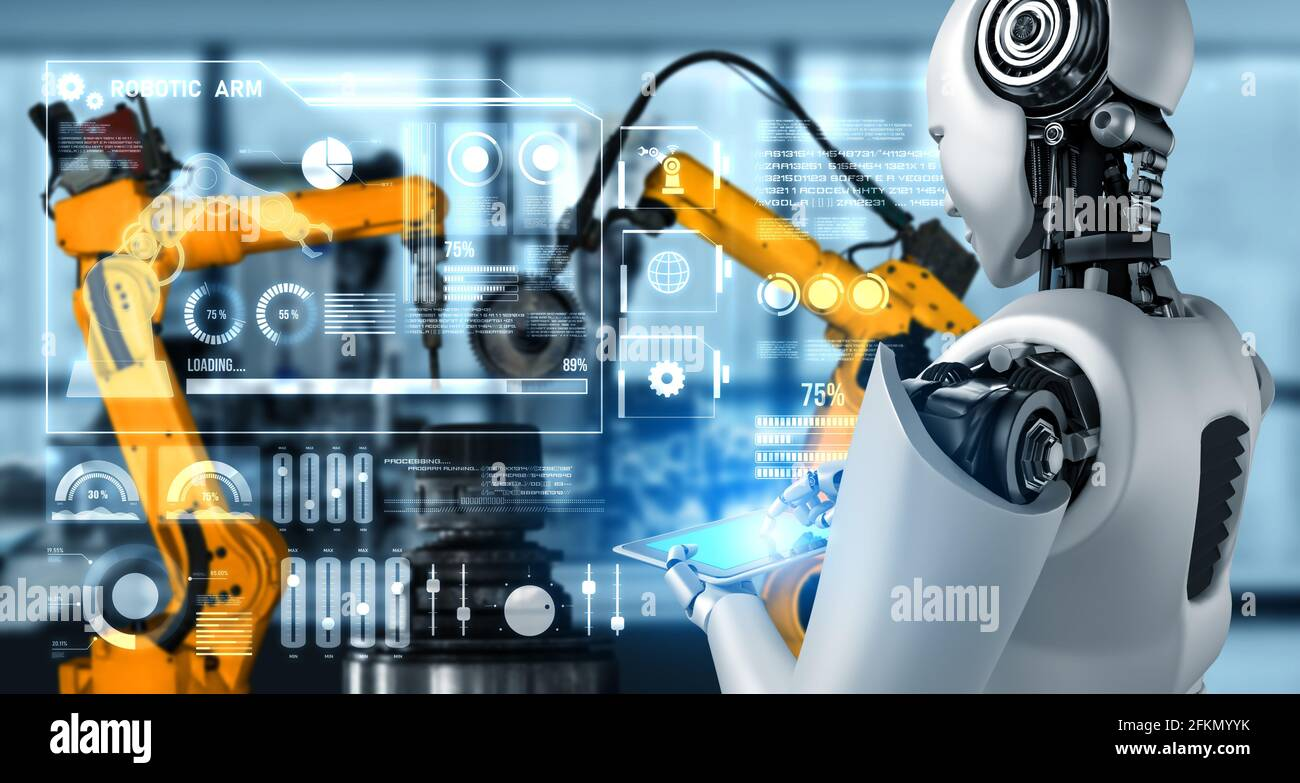robot: (557, 46, 986, 659), (21, 91, 450, 696)
